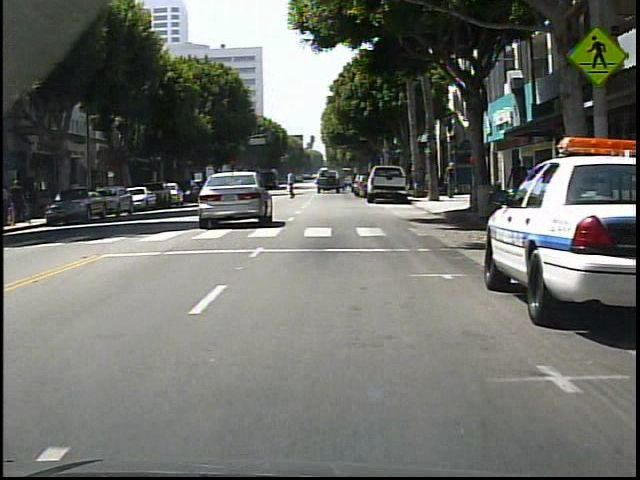person: (504, 158, 526, 218), (14, 180, 28, 226), (443, 160, 459, 200), (2, 186, 15, 226), (284, 170, 300, 200)
